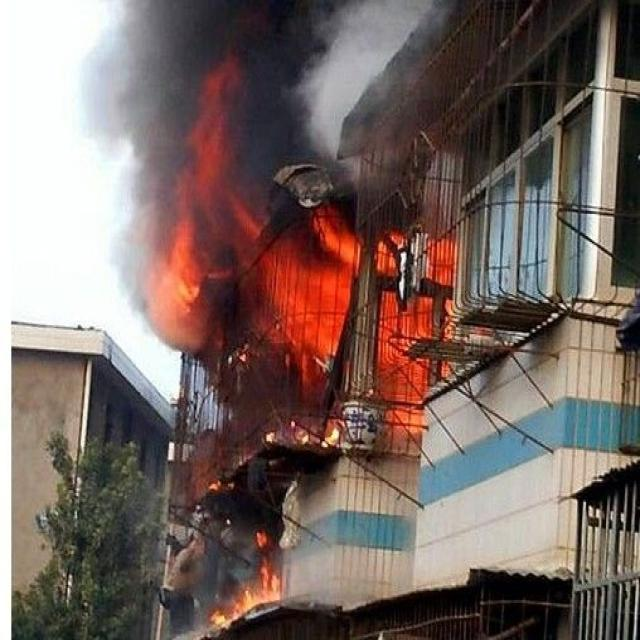Fire: (144, 61, 458, 450), (210, 530, 285, 630)
Smoke: (83, 1, 449, 354)
